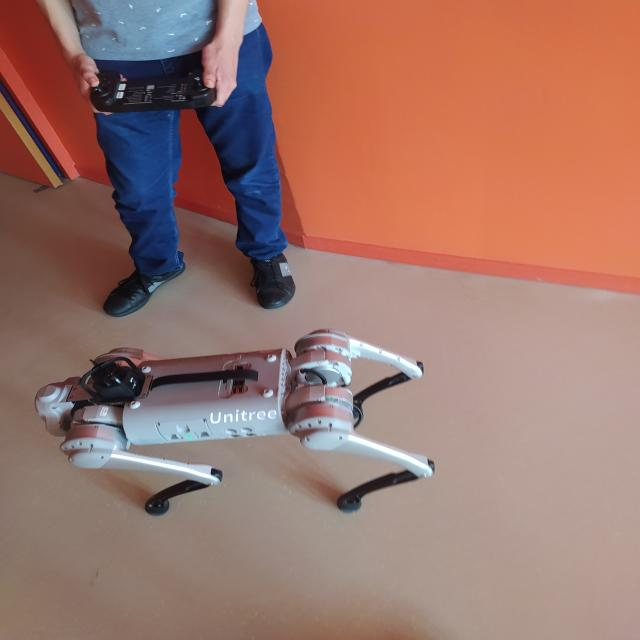unitree-go1-robot: (24, 321, 446, 535)
